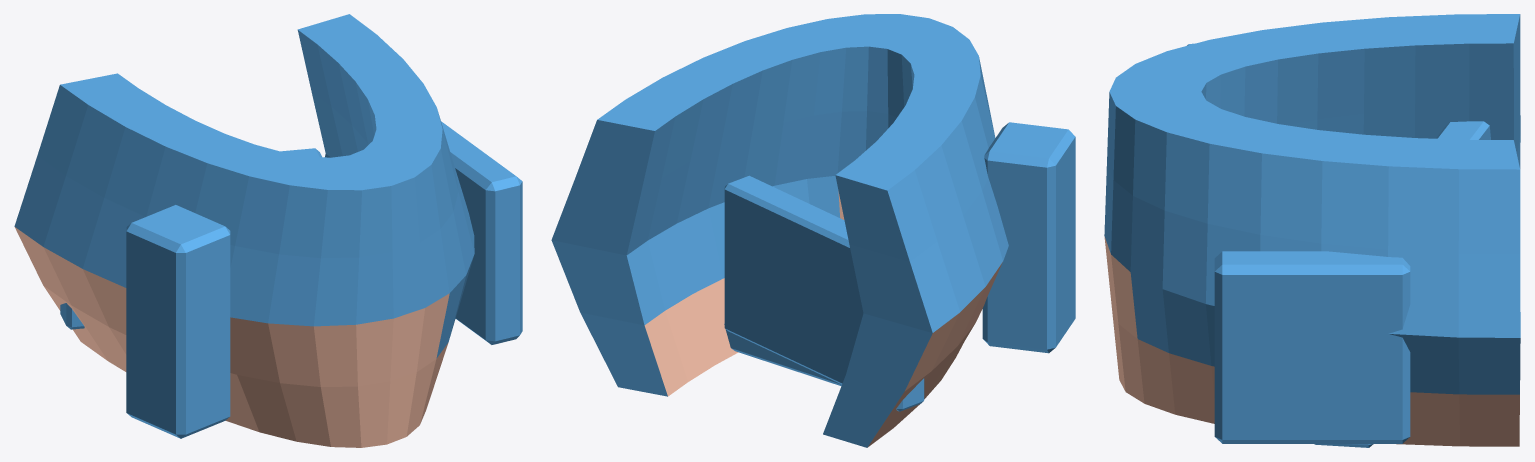
File: left_shoulder.glb
The picture shows the model from 3 angles, left to right: view 1: azimuth 30°, elevation 25°; view 2: azimuth 150°, elevation 25°; view 3: azimuth 270°, elevation 25°; orthographic projection. The views are drawn at different scales.
Parts seen in each view (by area): view 1: armor_left_shoulder_v001; view 2: armor_left_shoulder_v001; view 3: armor_left_shoulder_v001.
Part boxes in pixels (bbox=[...]): armor_left_shoulder_v001: bbox=[14, 14, 522, 447]; armor_left_shoulder_v001: bbox=[551, 14, 1075, 447]; armor_left_shoulder_v001: bbox=[1104, 14, 1520, 447].
Bounding box in the file's own units: 0.188 × 0.122 × 0.1596.
